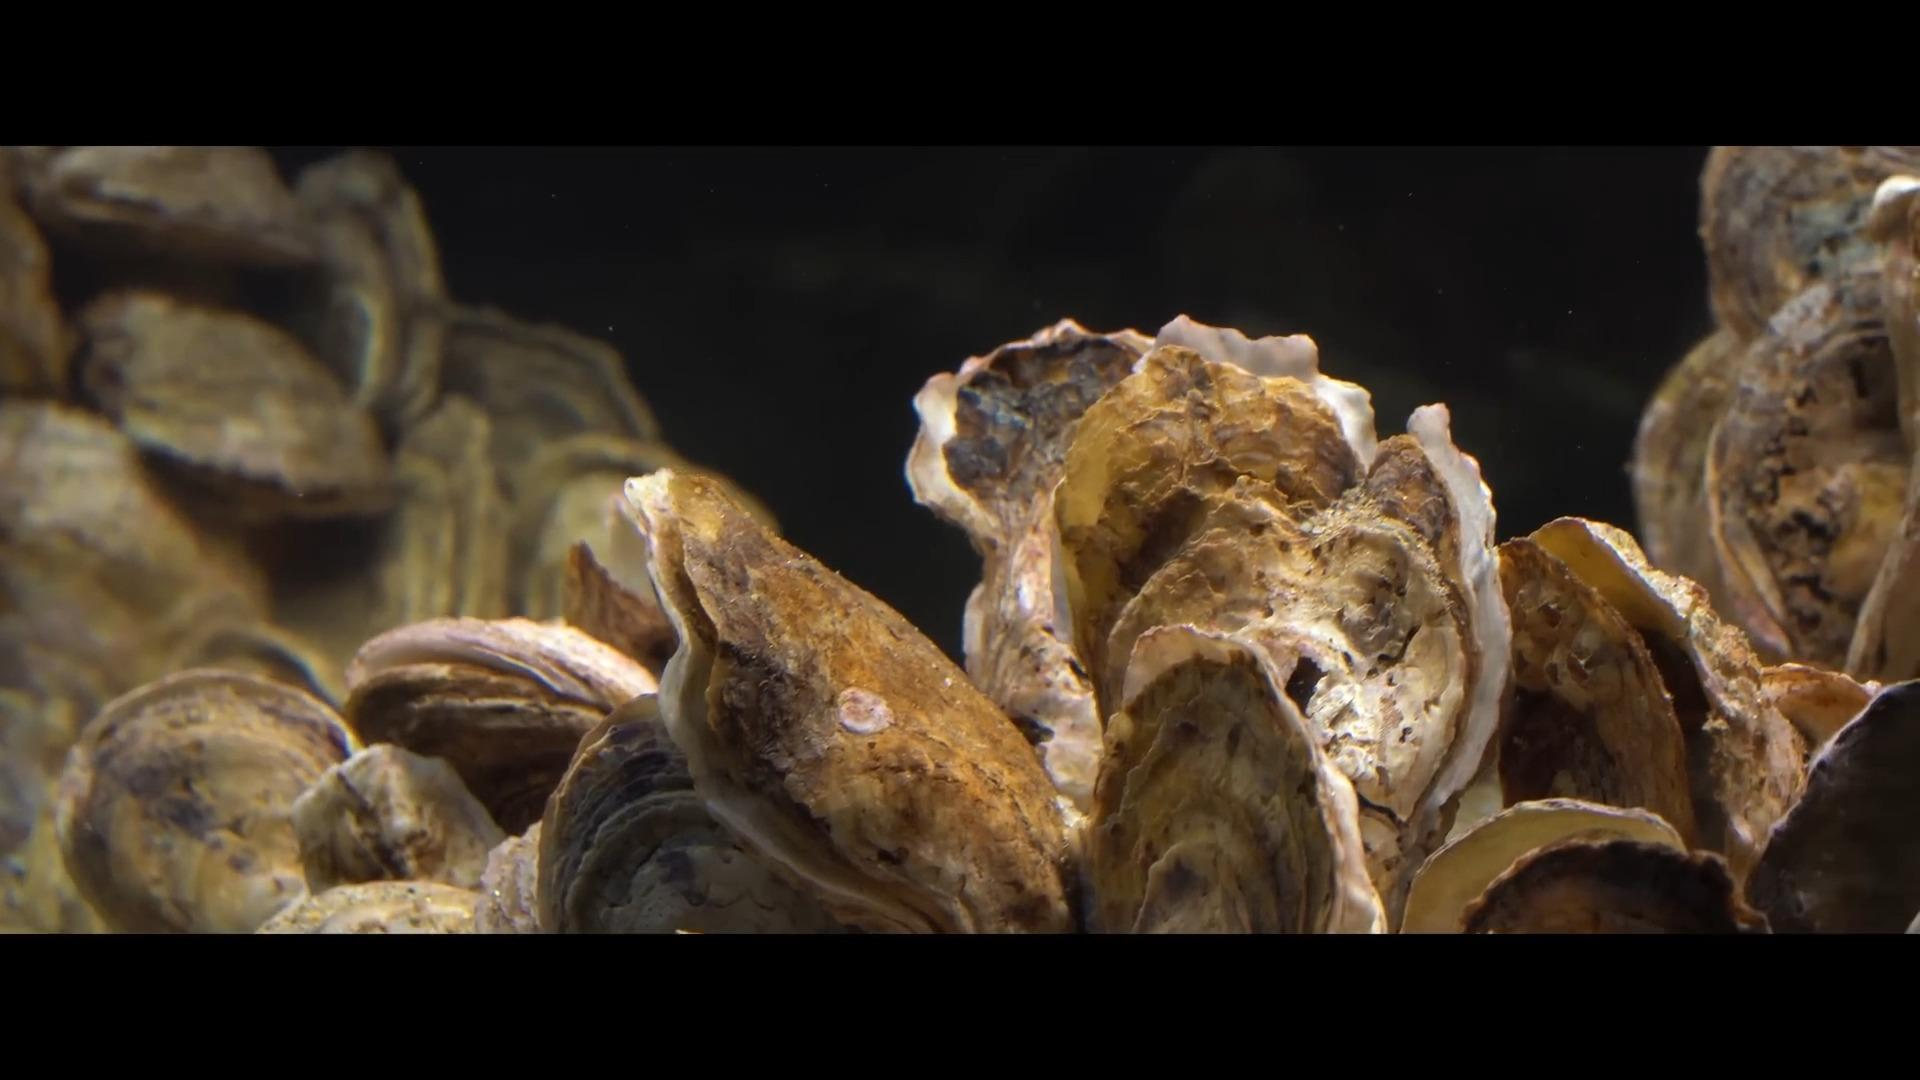Oyster: (624, 472, 1072, 934), (1042, 334, 1375, 727), (3, 398, 302, 703), (1712, 251, 1917, 675), (1083, 636, 1373, 934), (1278, 446, 1487, 843), (55, 669, 356, 932), (1485, 525, 1701, 853), (83, 291, 389, 524), (344, 617, 657, 832), (492, 433, 752, 633), (1745, 674, 1920, 931), (1700, 146, 1913, 338), (24, 146, 322, 273), (1633, 328, 1753, 624), (427, 305, 658, 451), (290, 742, 506, 895), (1697, 642, 1825, 884)
